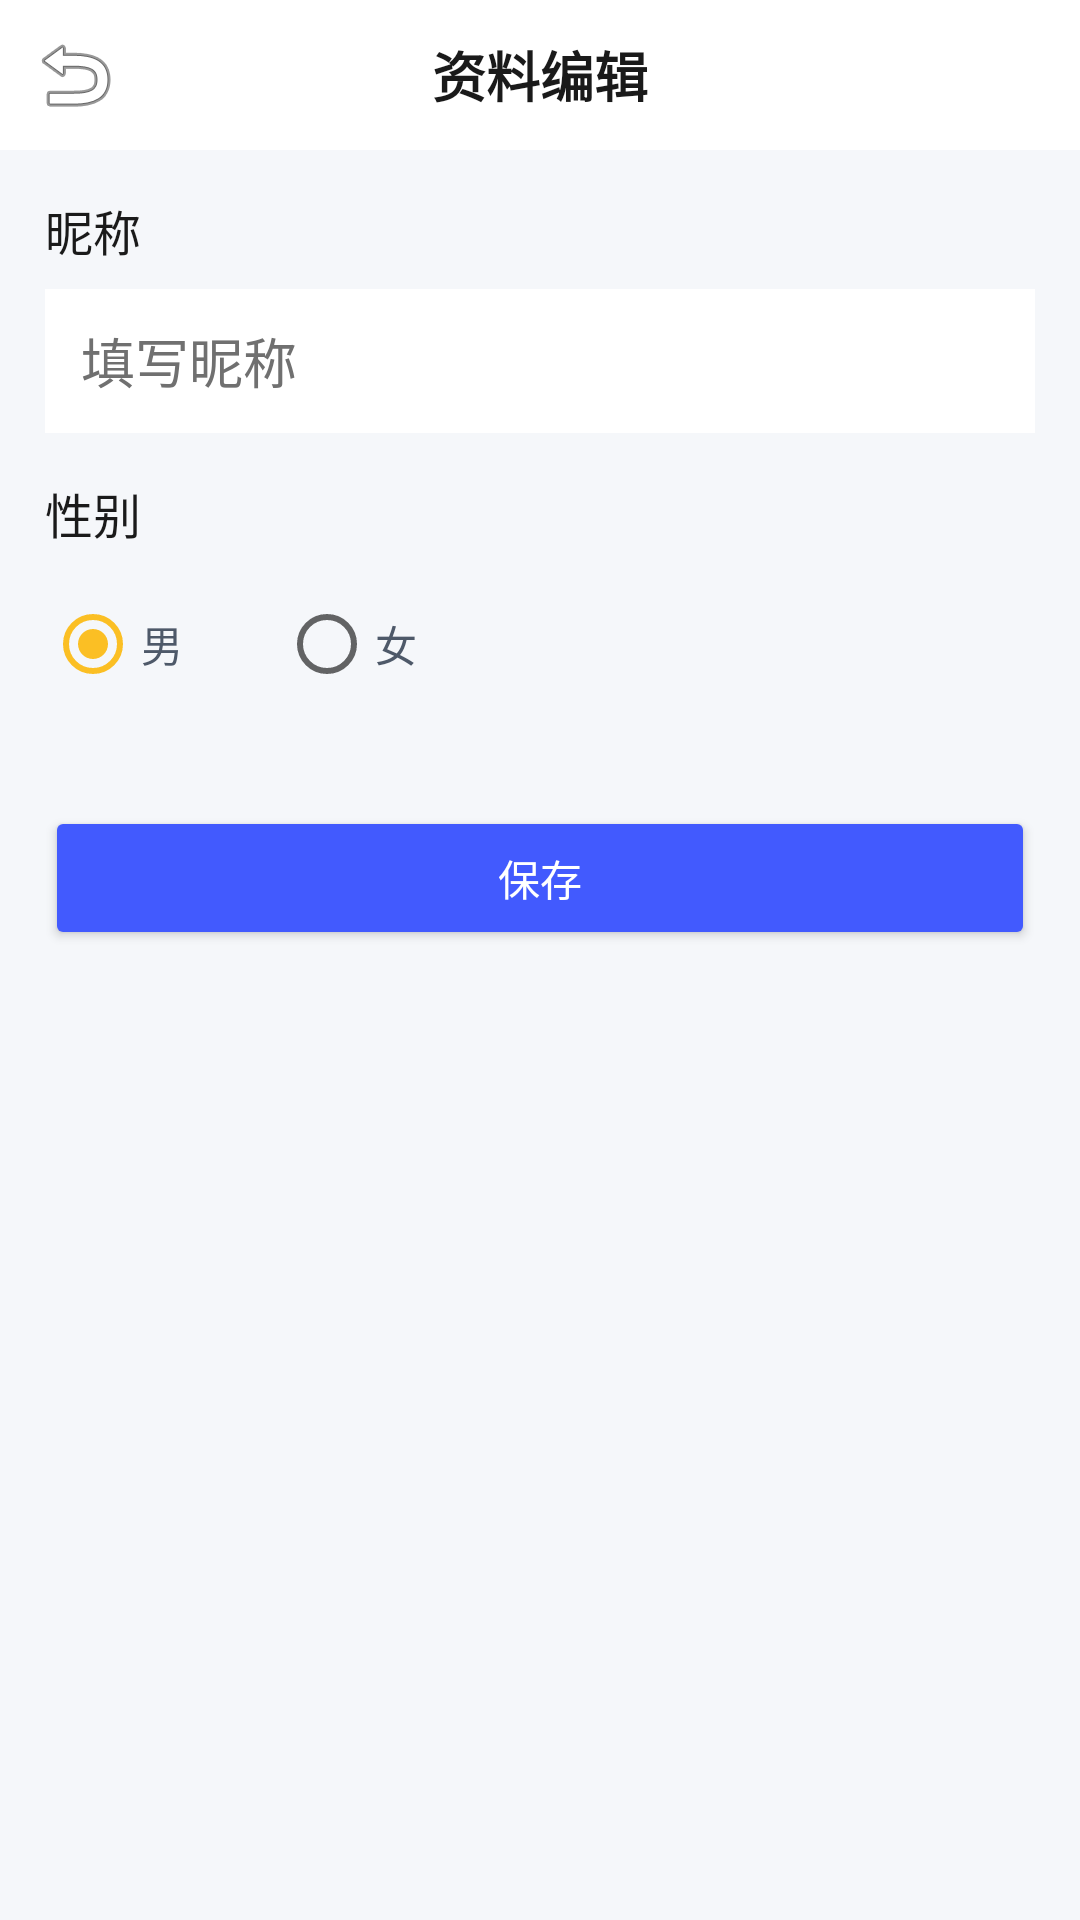

Icons on this 1080 x 1920 Android screen, each with its box as (x1, y1, x2, y2):
返回: (42, 44, 111, 107)
